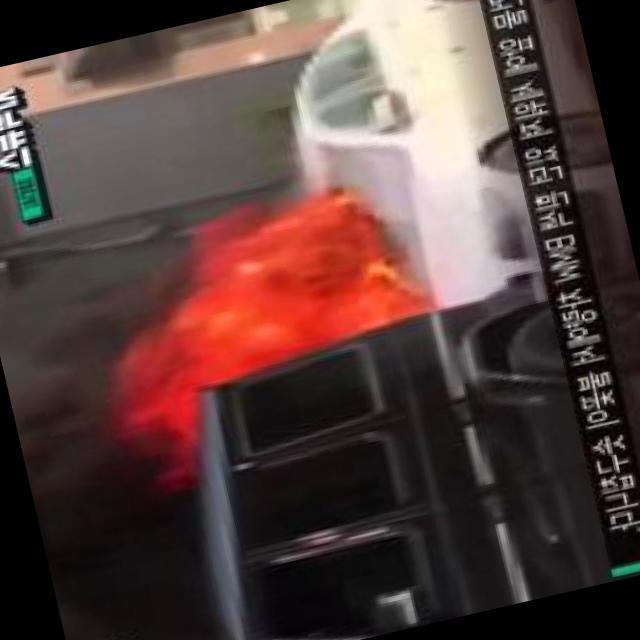Fire: (118, 200, 426, 455)
